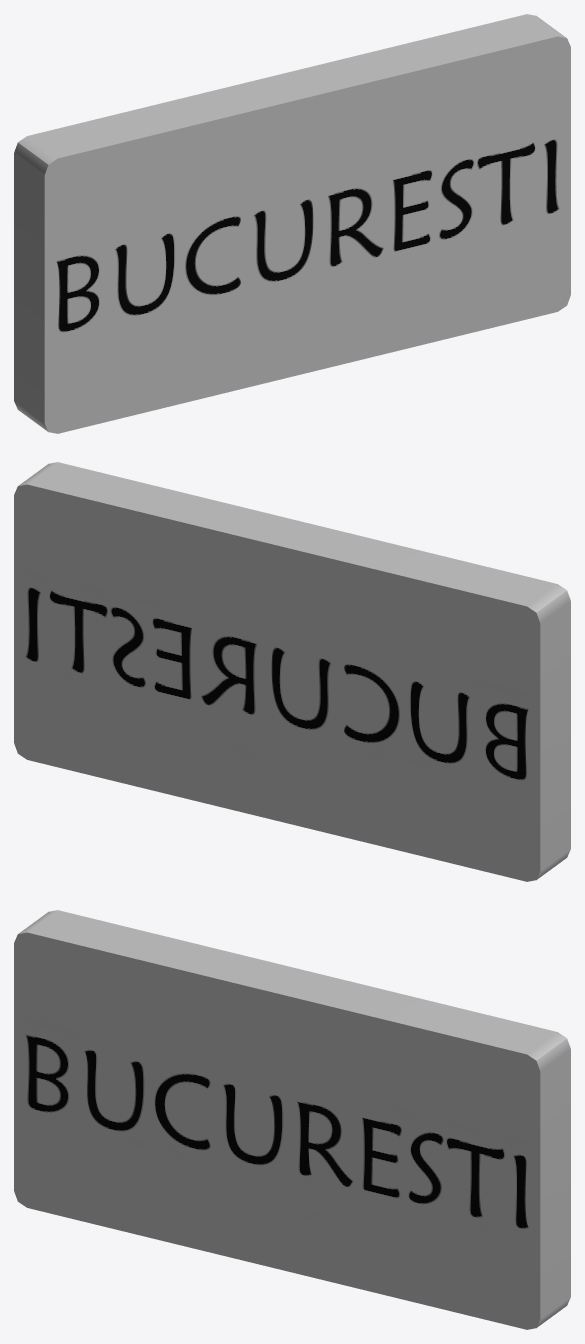
File: ExitSign_HiPoly -Bucuresti.obj
3 renders of one model, top to bottom at view 1: azimuth 30°, elevation 25°; view 2: azimuth 150°, elevation 25°; view 3: azimuth 330°, elevation 25°, orthographic.
Parts seen in each view (by area): view 1: pCube1; view 2: pCube1; view 3: pCube1.
Part boxes in pixels (x1,y1,x2,y2): pCube1: (14, 14, 570, 433); pCube1: (14, 462, 570, 881); pCube1: (14, 910, 570, 1329).
Bounding box in the file's own units: 2 × 1 × 0.2016.
1 material, 1 textured.
